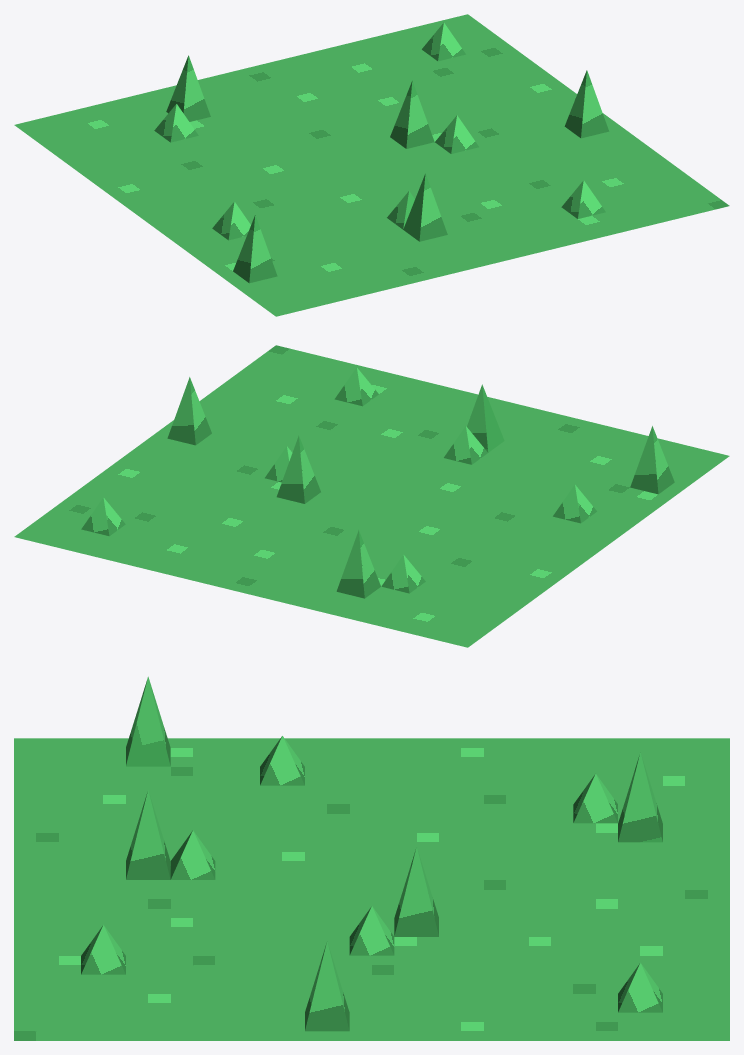
The model's file is grass.glb.
3 views of the same model, one above another, from view 1: azimuth 30°, elevation 25°; view 2: azimuth 150°, elevation 25°; view 3: azimuth 270°, elevation 25° (orthographic). The views are drawn at different scales.
Visible parts, largest first — view 1: pyramid; view 2: pyramid; view 3: pyramid.
Boxes of the visible parts, <box> form: pyramid: <box>14,14,729,316</box>; pyramid: <box>14,345,729,647</box>; pyramid: <box>14,676,729,1040</box>.
Bounding box in the file's own units: 1 × 0.125 × 1.
1 material, 1 textured.
